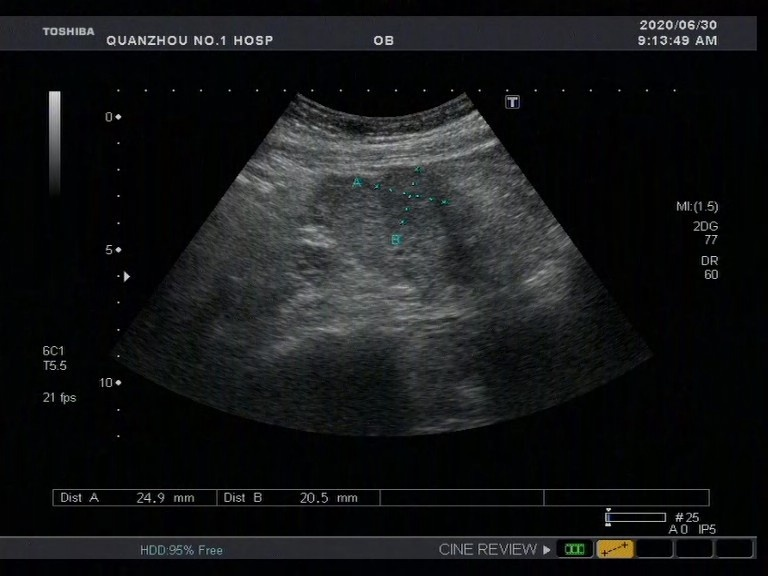肌瘤: (388, 171, 462, 233)
